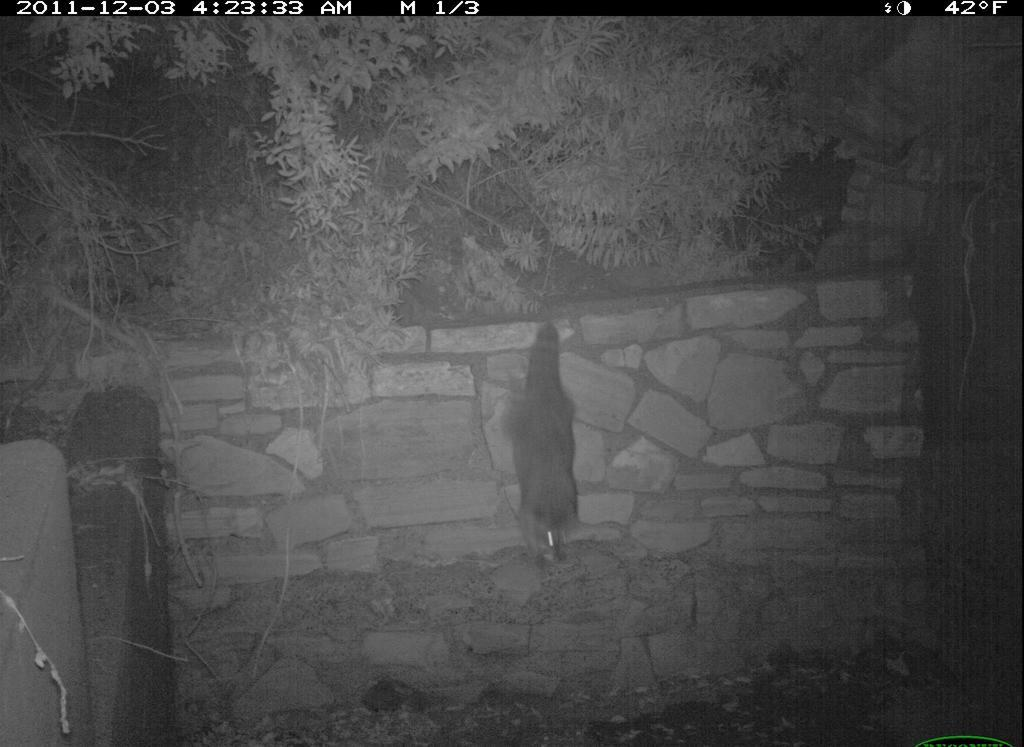raccoon: (483, 291, 635, 589)
